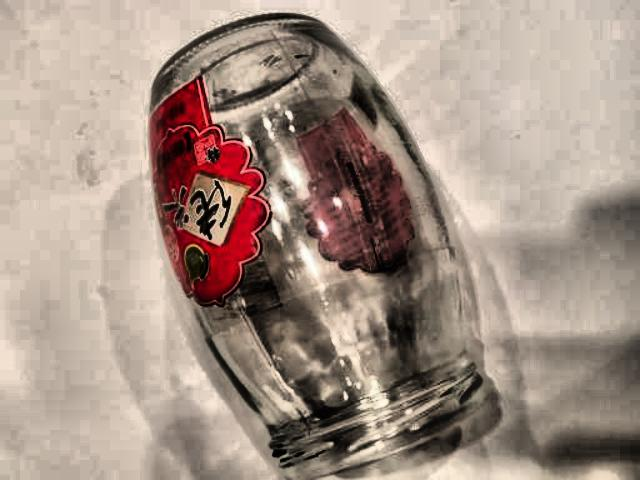Almennt: (128, 0, 512, 480)
